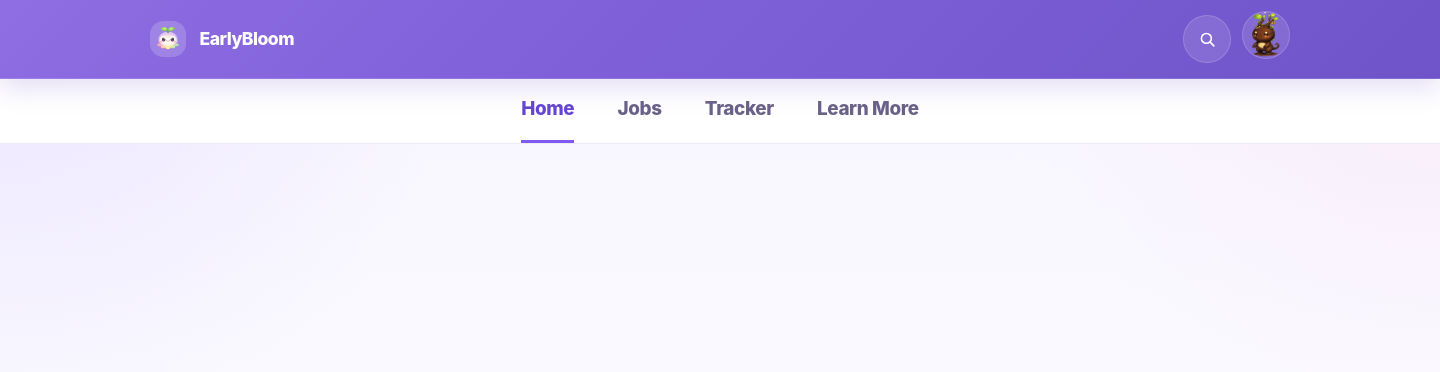
Scenario: Navbar › opens profile menu
Click the button named "Open profile menu". click: [1266, 35]
box: left=1242, top=11, right=1290, bottom=59
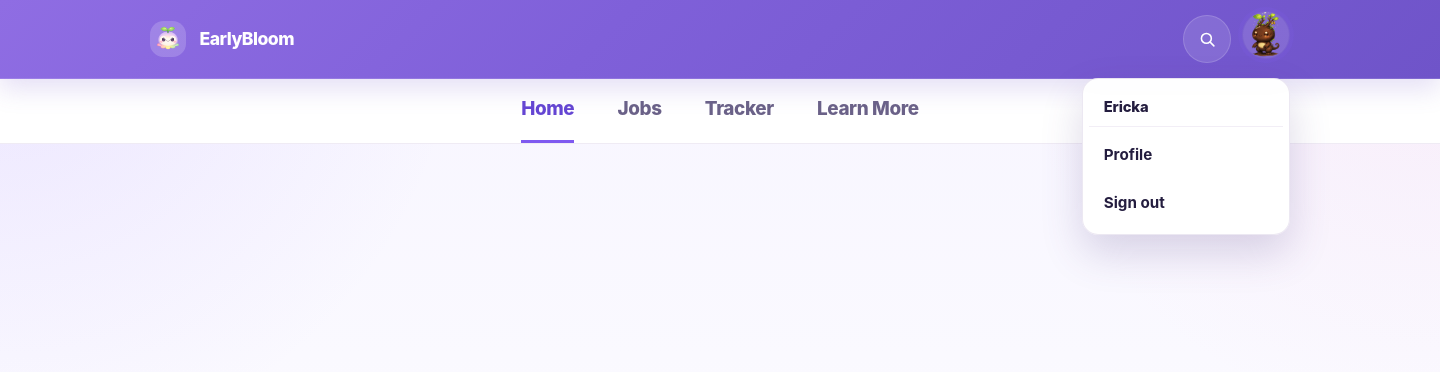
Expected: the menu item "Profile" is shown, left=1089, top=131, right=1283, bottom=179
Expected: the menu item "Sign out" is shown, left=1089, top=179, right=1283, bottom=227
